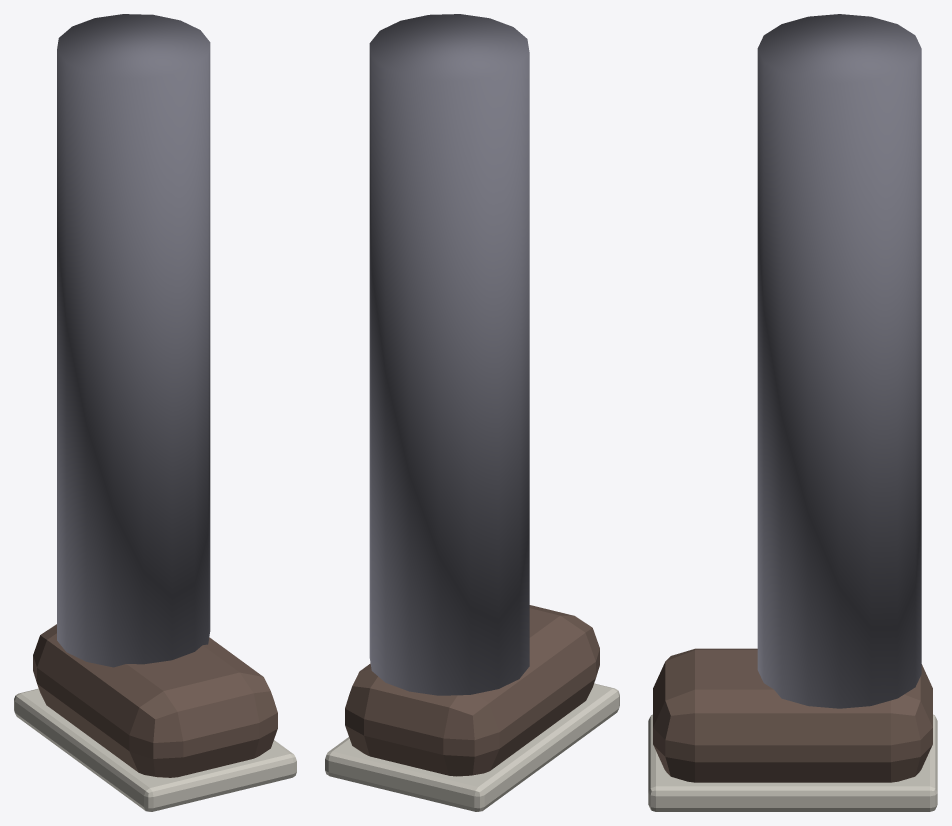
The model's file is perna.glb.
3 renders of one model, left to right at view 1: azimuth 30°, elevation 25°; view 2: azimuth 150°, elevation 25°; view 3: azimuth 270°, elevation 25°, orthographic. The views are drawn at different scales.
Parts seen in each view (by area): view 1: Perna, Sapato, Sola; view 2: Perna, Sapato, Sola; view 3: Perna, Sapato, Sola.
Boxes of the visible parts, bbox=[...] form: Perna: bbox=[57, 14, 210, 667]; Sapato: bbox=[33, 624, 277, 777]; Sola: bbox=[14, 688, 296, 811]; Perna: bbox=[369, 14, 529, 695]; Sapato: bbox=[345, 605, 599, 776]; Sola: bbox=[325, 683, 619, 811]; Perna: bbox=[757, 14, 921, 708]; Sapato: bbox=[653, 648, 932, 782]; Sola: bbox=[648, 714, 937, 811].
Size of the model in its own units: 0.2 by 0.86 by 0.31.
